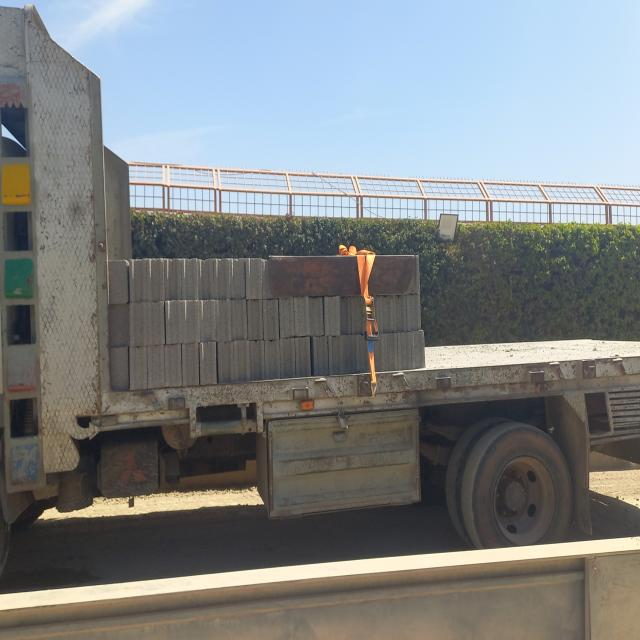bricks: (109, 254, 369, 391), (368, 255, 425, 373)
